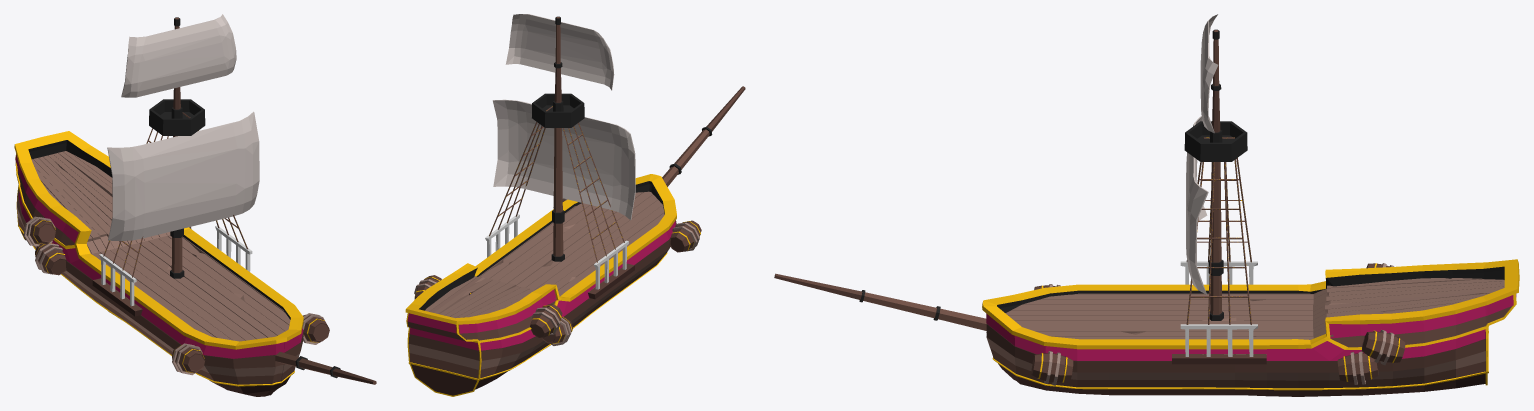
File: EnemyBoatTiny.fbx
The picture shows the model from 3 angles, left to right: view 1: azimuth 30°, elevation 25°; view 2: azimuth 150°, elevation 25°; view 3: azimuth 270°, elevation 25°; orthographic projection. The views are drawn at different scales.
Visible parts, largest first — view 1: Handle, Boat, LowerFloor, FloorLower, Barrels.003, Boat.001, Escote, Barrels.001, Barrels.002, Wall.001, Boat.002; view 2: Handle, Boat, LowerFloor, FloorLower, Boat.002, Boat.001, Barrels.002, Escote, Barrels.003, Barrels.001; view 3: Boat, LowerFloor, Handle, FloorLower, Boat.002, Escote, Boat.001, Barrels.002, Barrels.003, Barrels.001.
Boxes of the visible parts, left/top/right/bottom form: Handle: left=107, top=14, right=259, bottom=278; Boat: left=14, top=131, right=303, bottom=396; LowerFloor: left=91, top=235, right=290, bottom=341; FloorLower: left=31, top=151, right=112, bottom=241; Barrels.003: left=172, top=313, right=329, bottom=375; Boat.001: left=99, top=226, right=252, bottom=306; Escote: left=275, top=352, right=376, bottom=384; Barrels.001: left=35, top=227, right=191, bottom=275; Barrels.002: left=23, top=216, right=55, bottom=246; Wall.001: left=86, top=232, right=170, bottom=253; Boat.002: left=103, top=112, right=247, bottom=277; Handle: left=492, top=14, right=635, bottom=261; Boat: left=405, top=174, right=676, bottom=396; LowerFloor: left=479, top=191, right=664, bottom=296; FloorLower: left=425, top=276, right=534, bottom=318; Boat.002: left=489, top=106, right=624, bottom=262; Boat.001: left=485, top=214, right=628, bottom=289; Barrels.002: left=414, top=275, right=562, bottom=337; Escote: left=662, top=86, right=745, bottom=186; Barrels.003: left=553, top=198, right=701, bottom=252; Barrels.001: left=542, top=317, right=572, bottom=345; Boat: left=982, top=259, right=1519, bottom=396; LowerFloor: left=1005, top=293, right=1313, bottom=339; Handle: left=1184, top=14, right=1247, bottom=320; FloorLower: left=1325, top=278, right=1504, bottom=317; Boat.002: left=1186, top=137, right=1251, bottom=324; Escote: left=774, top=273, right=986, bottom=330; Boat.001: left=1180, top=261, right=1257, bottom=356; Barrels.002: left=1362, top=263, right=1405, bottom=365; Barrels.003: left=1031, top=284, right=1073, bottom=385; Barrels.001: left=1337, top=351, right=1378, bottom=384.
Bounding box in the file's own units: 779 × 1576 × 2955.
